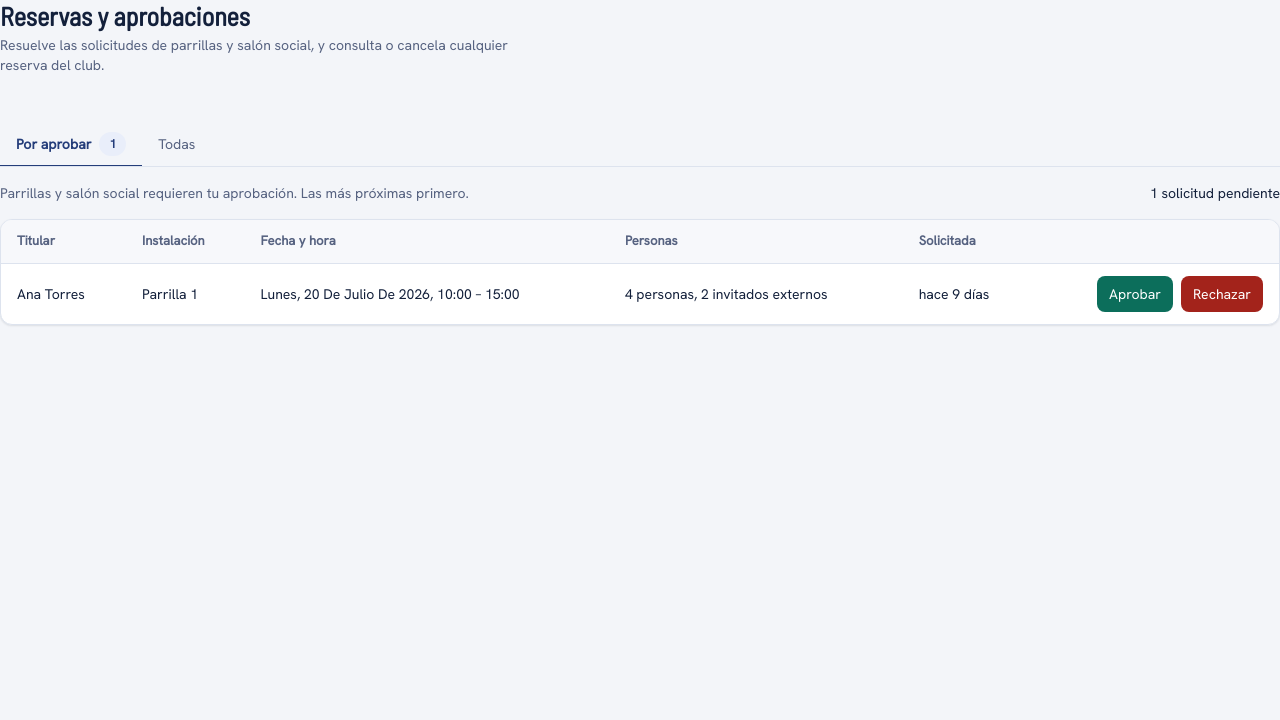
Test case: ReservationsAdminPage › por aprobar › aprueba desde el panel de detalle y lo cierra
Check: the table is shown, box top-left (1, 220), bottom-right (1279, 324)
Click the row named "Ver detalle de la reserva de Ana Torres, Parrilla 1": click(640, 294) top-left (1, 264), bottom-right (1279, 324)
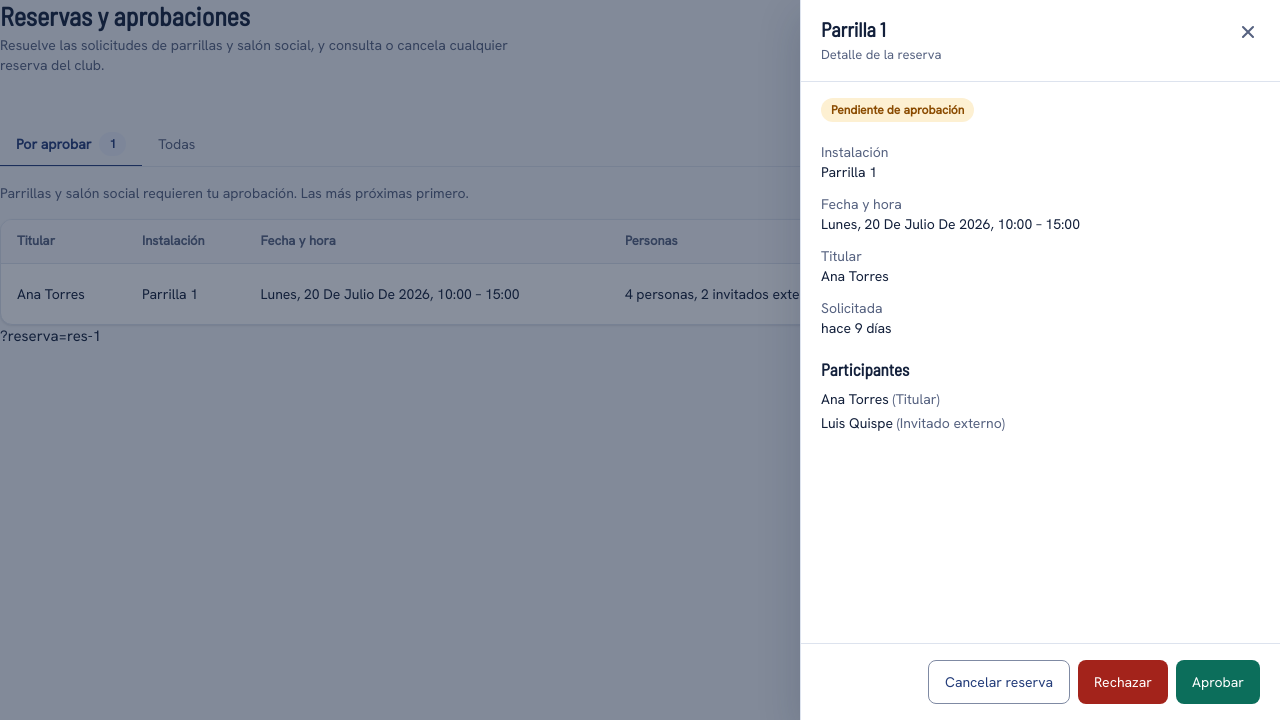
Click the button "Aprobar": click(1218, 682) top-left (1176, 660), bottom-right (1260, 704)
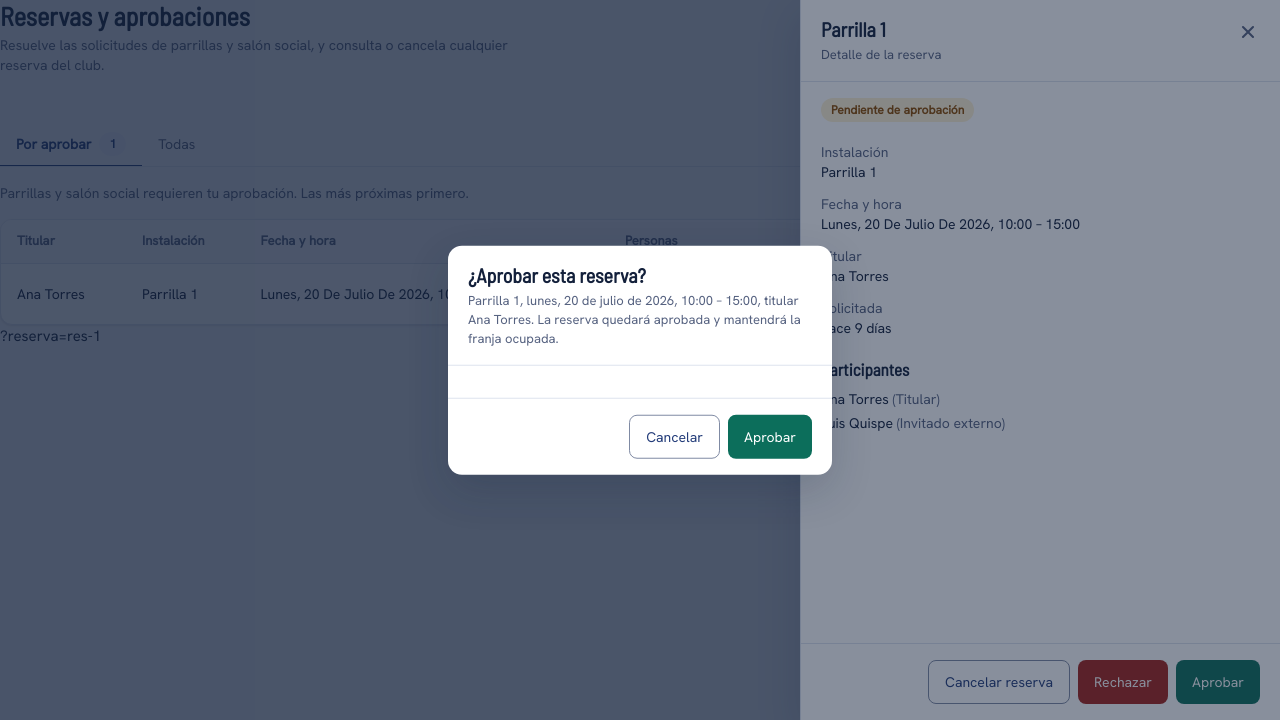
Click the button "Aprobar": click(770, 436) top-left (728, 414), bottom-right (812, 458)
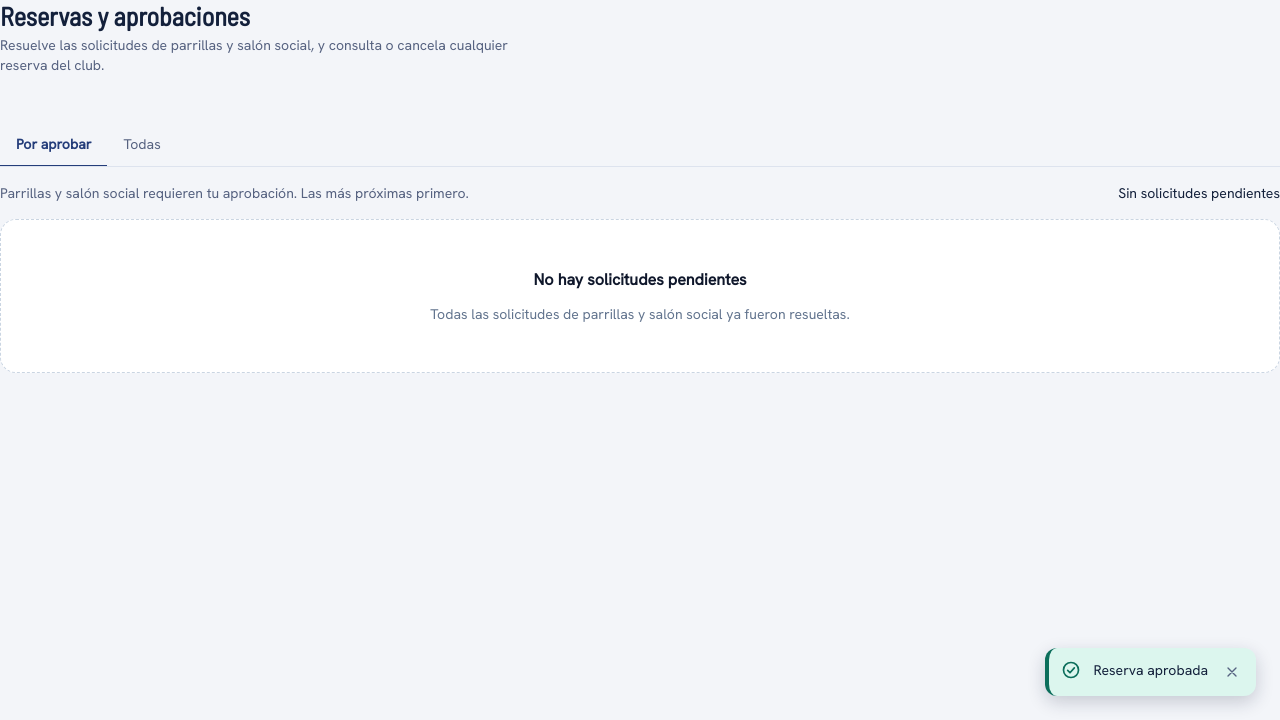
Check: the text "Reserva aprobada" is shown, box top-left (1093, 660), bottom-right (1208, 680)
Check: the dialog is gone
